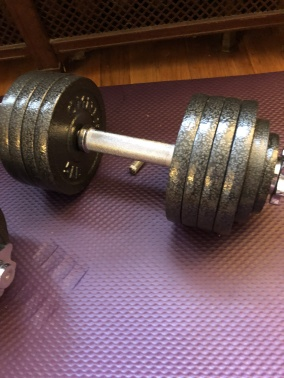battery: (123, 138, 159, 177)
